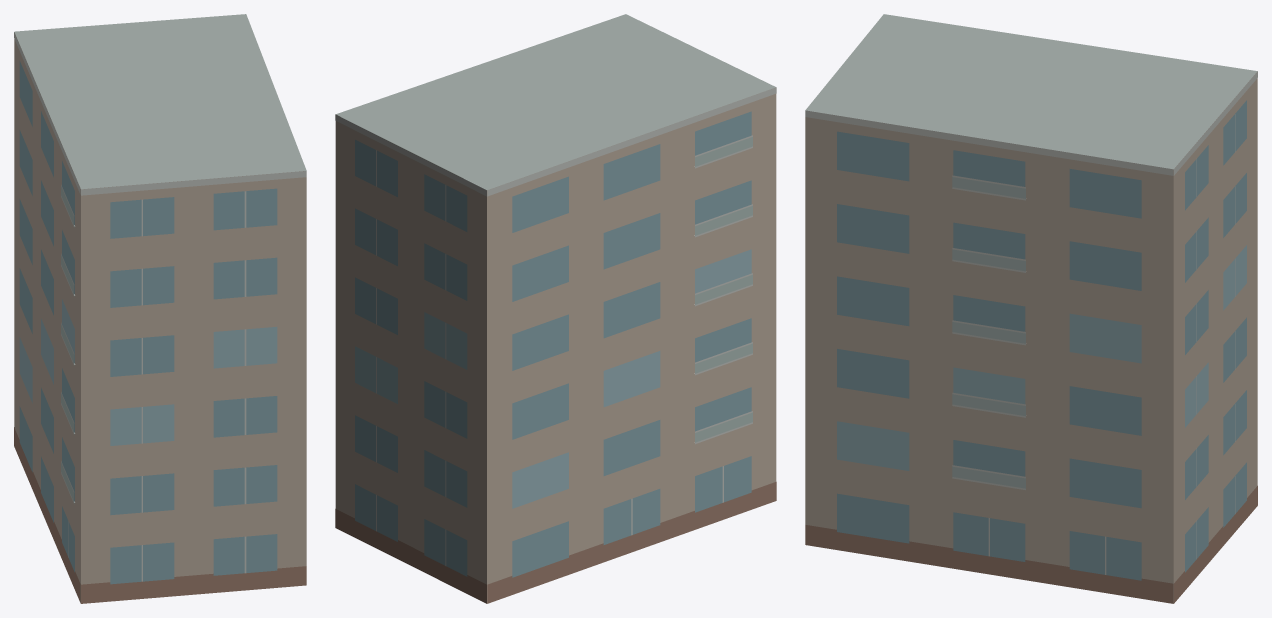
File: survey-upis-32893667.glb
3 renders of one model, left to right at view 1: azimuth 30°, elevation 25°; view 2: azimuth 150°, elevation 25°; view 3: azimuth 270°, elevation 25°, orthographic. The views are drawn at different scales.
Parts seen in each view (by area): view 1: survey-upis-32893667.tmp; view 2: survey-upis-32893667.tmp; view 3: survey-upis-32893667.tmp.
Part boxes in pixels (box(x1,y1,x2,y2)): survey-upis-32893667.tmp: box(14, 14, 306, 603); survey-upis-32893667.tmp: box(335, 14, 776, 603); survey-upis-32893667.tmp: box(805, 14, 1257, 603).
Bounding box in the file's own units: 12.28 × 16 × 15.11.
